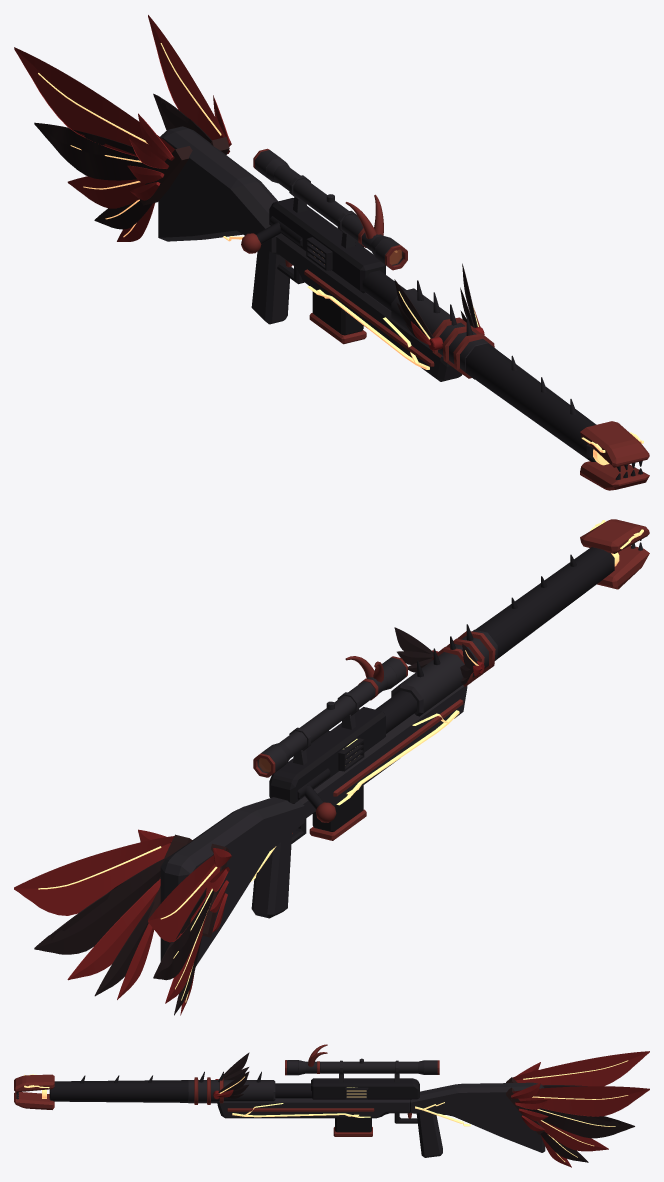
Rendered from w_sniper@sniper_infernal.glb.
3 views of the same model, one above another, from view 1: azimuth 30°, elevation 25°; view 2: azimuth 150°, elevation 25°; view 3: azimuth 270°, elevation 25° (orthographic). The views are drawn at different scales.
Parts seen in each view (by area): view 1: stock_wzA__shell__p232025, stock_wzN__feat2__p7a1a1a, barrel_wzB__trim__p18161a, stock_wzN__feat__p1e1416, barrel_wzN__gold__p6b2420, scope_wzN__shell__p232025, body_wzB__trim__p18161a, stock_wzN__cov__p7a1a1a, barrel_wzA__shell__p232025, stock_wzN__glow__nff8a5a, barrel_wzN__feat__p1e1416, stock_wzN__bone__p2c1a1a (+3 smaller); view 2: stock_wzA__shell__p232025, stock_wzN__feat2__p7a1a1a, stock_wzN__feat__p1e1416, barrel_wzB__trim__p18161a, scope_wzN__shell__p232025, body_wzB__trim__p18161a, barrel_wzN__gold__p6b2420, barrel_wzA__shell__p232025, stock_wzN__glow__nff8a5a, barrel_wzN__feat__p1e1416, stock_wzN__cov__p7a1a1a, stock_wzN__gold__p6b2420 (+2 smaller); view 3: stock_wzA__shell__p232025, stock_wzN__feat2__p7a1a1a, barrel_wzB__trim__p18161a, stock_wzN__feat__p1e1416, scope_wzN__shell__p232025, body_wzB__trim__p18161a, barrel_wzN__gold__p6b2420, barrel_wzA__shell__p232025, stock_wzN__glow__nff8a5a, stock_wzN__cov__p7a1a1a, barrel_wzN__feat__p1e1416, stock_wzN__gold__p6b2420 (+5 smaller).
Boxes of the visible parts, x1,y1,x2,y2 form: stock_wzA__shell__p232025: (158,126,462,381); stock_wzN__feat2__p7a1a1a: (14,15,225,241); barrel_wzB__trim__p18161a: (362,270,596,461); stock_wzN__feat__p1e1416: (34,93,211,229); barrel_wzN__gold__p6b2420: (432,317,649,490); scope_wzN__shell__p232025: (255,150,403,267); body_wzB__trim__p18161a: (269,198,385,293); stock_wzN__cov__p7a1a1a: (127,95,231,200); barrel_wzA__shell__p232025: (391,288,495,379); stock_wzN__glow__nff8a5a: (38,43,429,369); barrel_wzN__feat__p1e1416: (394,263,477,338); stock_wzN__bone__p2c1a1a: (139,137,229,205); stock_wzA__shell__p232025: (160,685,467,965); stock_wzN__feat2__p7a1a1a: (14,836,227,1015); stock_wzN__feat__p1e1416: (34,856,214,1015); barrel_wzB__trim__p18161a: (375,547,614,733); scope_wzN__shell__p232025: (257,657,406,774); body_wzB__trim__p18161a: (269,707,385,803); barrel_wzN__gold__p6b2420: (432,519,649,687); barrel_wzA__shell__p232025: (391,629,497,716); stock_wzN__glow__nff8a5a: (38,710,459,1002); barrel_wzN__feat__p1e1416: (394,627,477,684); stock_wzN__cov__p7a1a1a: (138,829,231,932); stock_wzN__gold__p6b2420: (333,699,463,796); stock_wzA__shell__p232025: (217,1082,545,1157); stock_wzN__feat2__p7a1a1a: (512,1051,649,1167); barrel_wzB__trim__p18161a: (49,1080,311,1102); stock_wzN__feat__p1e1416: (527,1085,634,1162); scope_wzN__shell__p232025: (287,1058,437,1082); body_wzB__trim__p18161a: (311,1078,419,1099); barrel_wzN__gold__p6b2420: (14,1074,223,1109); barrel_wzA__shell__p232025: (188,1080,275,1103); stock_wzN__glow__nff8a5a: (232,1060,628,1161); stock_wzN__cov__p7a1a1a: (511,1062,548,1131); barrel_wzN__feat__p1e1416: (218,1052,249,1098); stock_wzN__gold__p6b2420: (227,1108,374,1111).
Bounding box in the file's own units: 0.3517 × 0.4788 × 2.51.
